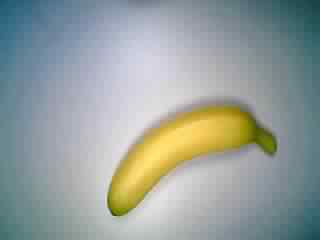banana: (104, 94, 282, 217)
